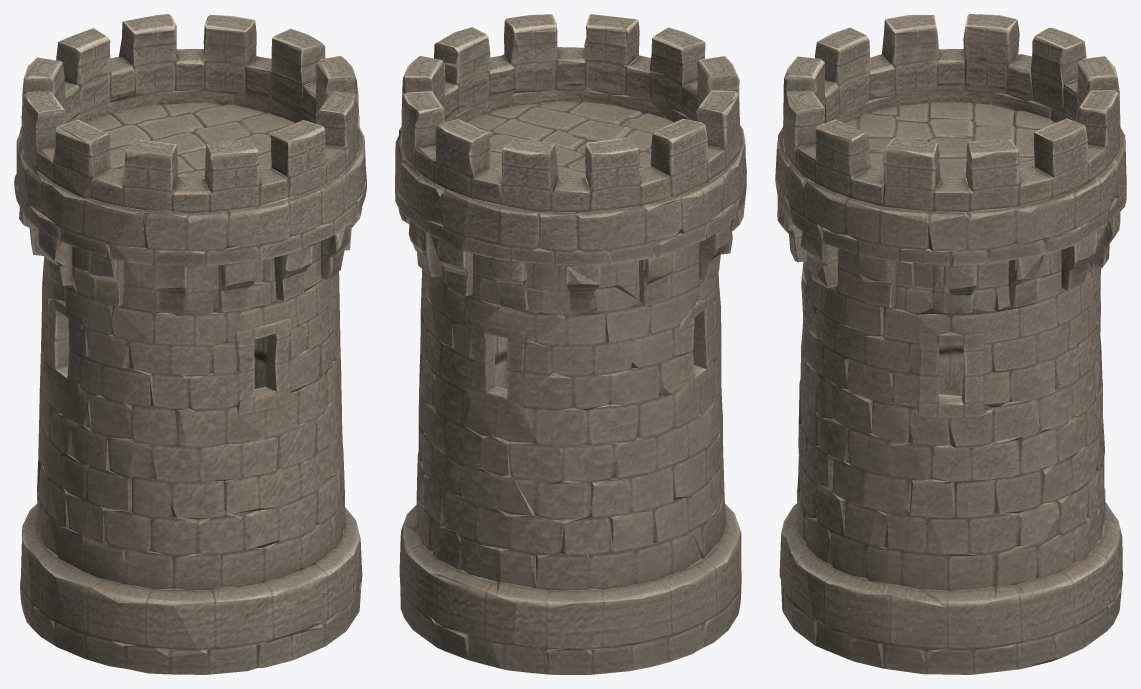
Rendered from inner_wall_tower.glb.
3 renders of one model, left to right at view 1: azimuth 30°, elevation 25°; view 2: azimuth 150°, elevation 25°; view 3: azimuth 270°, elevation 25°, orthographic.
Parts seen in each view (by area): view 1: output_unwrapped; view 2: output_unwrapped; view 3: output_unwrapped.
Boxes of the visible parts, bbox=[...] form: output_unwrapped: bbox=[14, 14, 366, 674]; output_unwrapped: bbox=[395, 14, 746, 674]; output_unwrapped: bbox=[775, 14, 1126, 674].
Size of the model in its own units: 1.16 by 1.9 by 1.16.
Materials: 1 (1 with a texture image).
